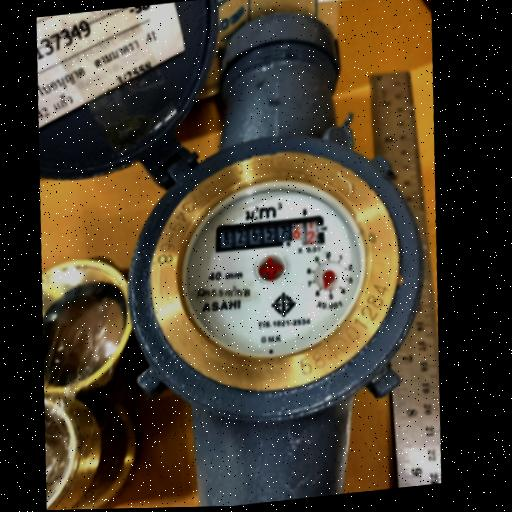2: (305, 221, 319, 244), (235, 228, 249, 247)
5: (262, 225, 277, 244)
6: (248, 226, 262, 245), (291, 222, 304, 240)
7: (277, 223, 290, 242)
8: (219, 229, 234, 248)
border_water_meter_number: (215, 215, 327, 255)
